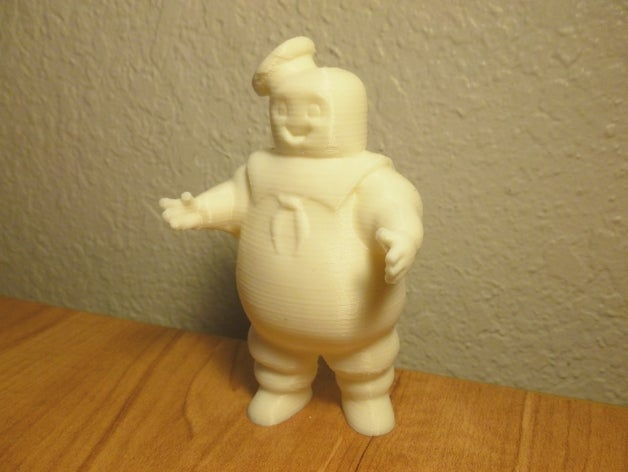Good: (153, 22, 439, 455)
